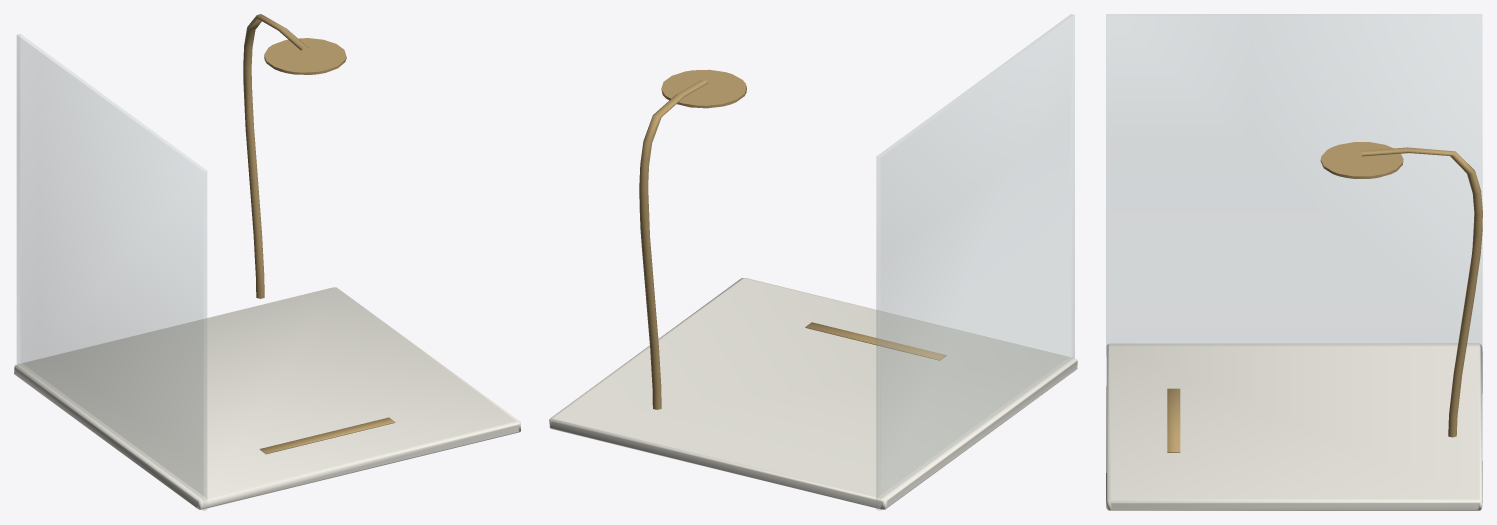
Rendered from shower-11-0.lod.glb.
3 views of the same model, side by side, from view 1: azimuth 30°, elevation 25°; view 2: azimuth 150°, elevation 25°; view 3: azimuth 270°, elevation 25° (orthographic). The views are drawn at different scales.
Parts seen in each view (by area): view 1: upholstery (×2), part; view 2: upholstery (×2), part; view 3: upholstery (×2), part.
Boxes of the visible parts, box(x1,y1,x2,y2) form: upholstery (×2): box(14, 34, 520, 510); part: box(243, 14, 395, 454); upholstery (×2): box(549, 14, 1077, 510); part: box(639, 69, 946, 409); upholstery (×2): box(1106, 14, 1482, 510); part: box(1167, 142, 1482, 452).
Bounding box in the file's own units: 1 × 1 × 1.
